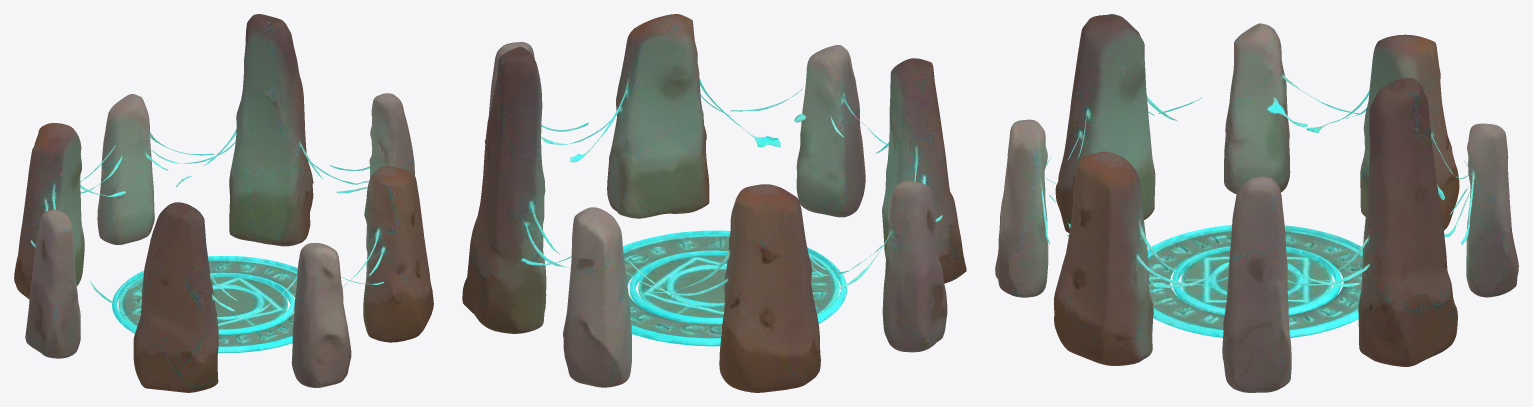
File: sanctuary_base.glb
3 views of the same model, side by side, from view 1: azimuth 30°, elevation 25°; view 2: azimuth 150°, elevation 25°; view 3: azimuth 270°, elevation 25° (orthographic). The views are drawn at different scales.
Bounding box in the file's own units: 1.89 × 1.07 × 1.9.
1 material, 1 textured.
